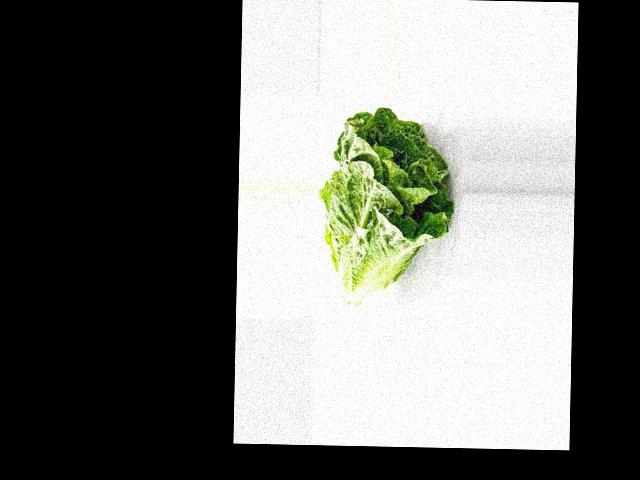lettuce: (346, 168, 450, 273)
